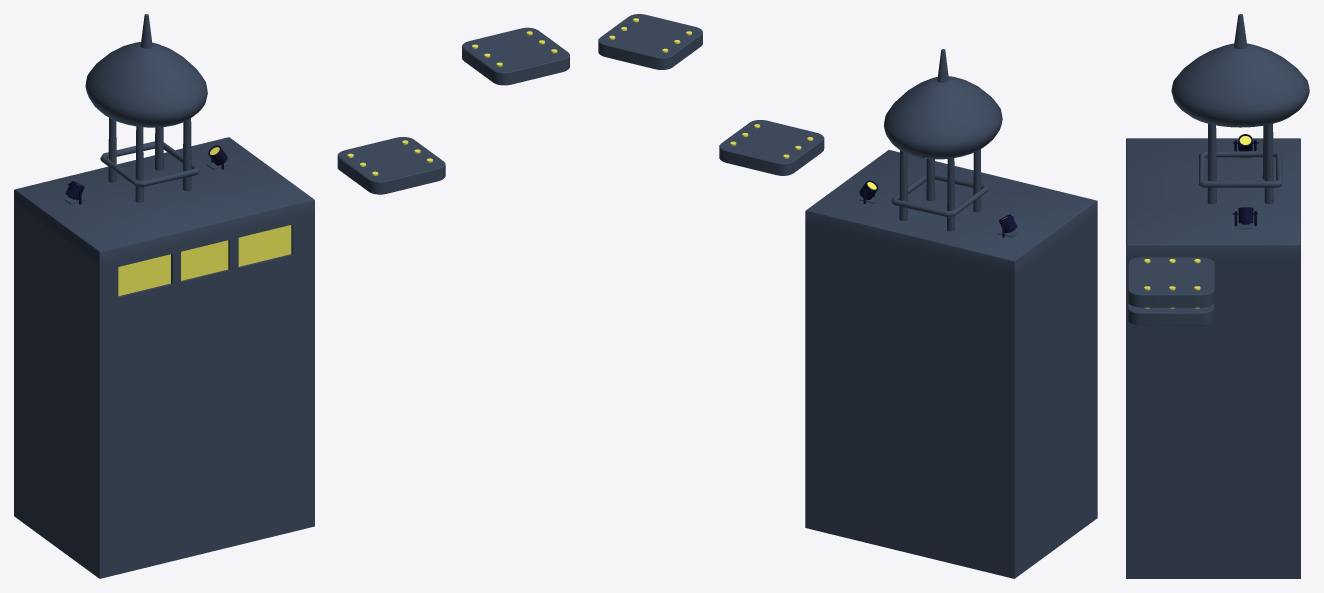
The model's file is 3D_India_Level.fbx.
3 views of the same model, side by side, from view 1: azimuth 30°, elevation 25°; view 2: azimuth 150°, elevation 25°; view 3: azimuth 270°, elevation 25° (orthographic). The views are drawn at different scales.
Visible parts, largest first — view 1: Bulding, Water Tank, Platform 1, Platform 2; view 2: Bulding, Water Tank, Platform 1, Platform 2; view 3: Bulding, Water Tank, Platform 2, Platform 1, Lamp 2.
Part boxes in pixels (bbox=[...]): Bulding: bbox=[14, 137, 314, 578]; Water Tank: bbox=[85, 14, 207, 202]; Platform 1: bbox=[337, 137, 445, 194]; Platform 2: bbox=[462, 27, 569, 85]; Bulding: bbox=[805, 150, 1097, 578]; Water Tank: bbox=[884, 49, 1002, 231]; Platform 1: bbox=[719, 120, 824, 175]; Platform 2: bbox=[598, 14, 702, 69]; Bulding: bbox=[1126, 138, 1300, 578]; Water Tank: bbox=[1171, 14, 1309, 204]; Platform 2: bbox=[1127, 257, 1214, 307]; Platform 1: bbox=[1127, 302, 1214, 325]; Lamp 2: bbox=[1238, 207, 1253, 224].
Bounding box in the file's own units: 7622 × 7625 × 2496.
